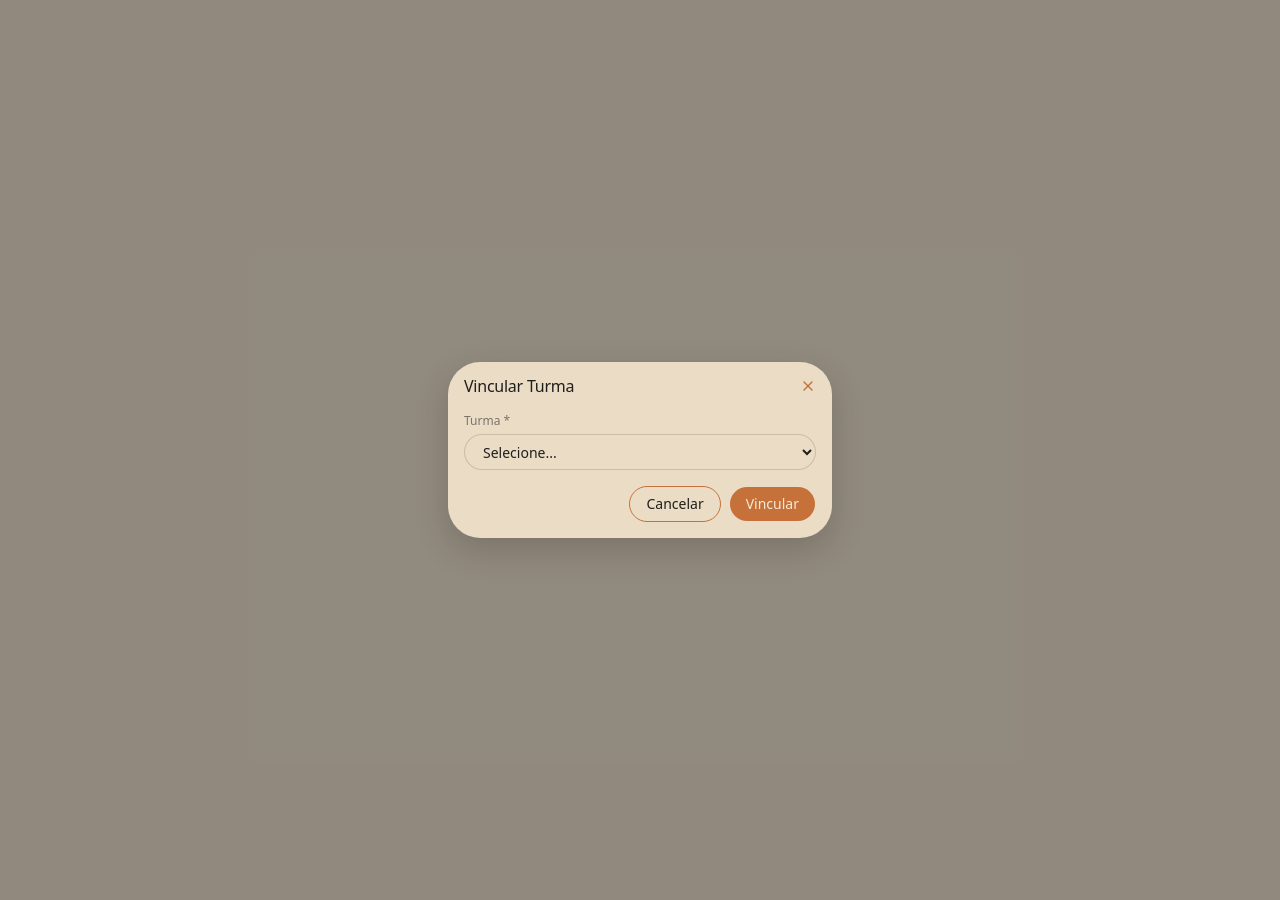
Test case: LinkClassroomDialog › does not submit without a choice
Click the button "Vincular".
click(772, 504)  # box left=729, top=486, right=816, bottom=522
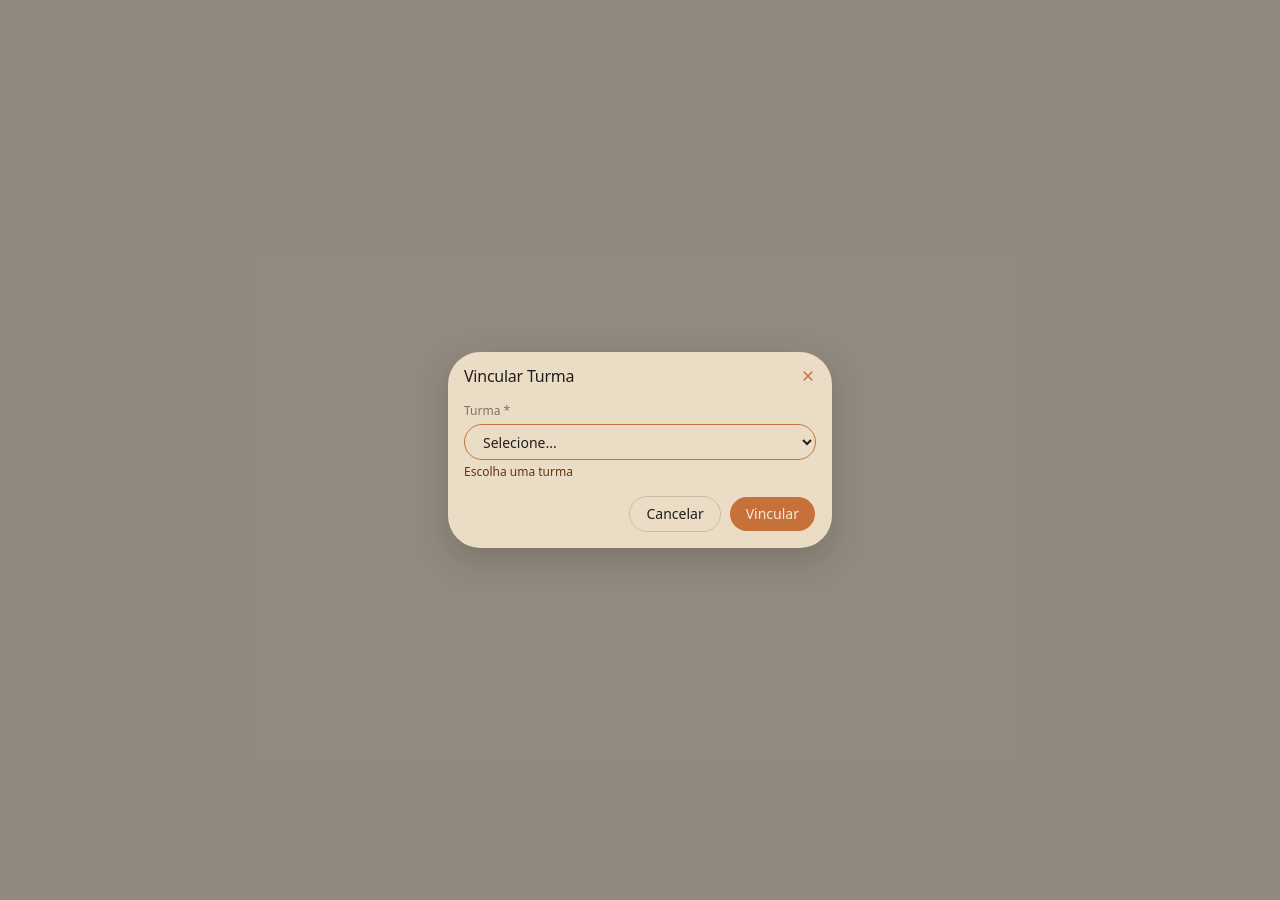
Now the text "Escolha uma turma" is shown, box left=464, top=463, right=573, bottom=480
